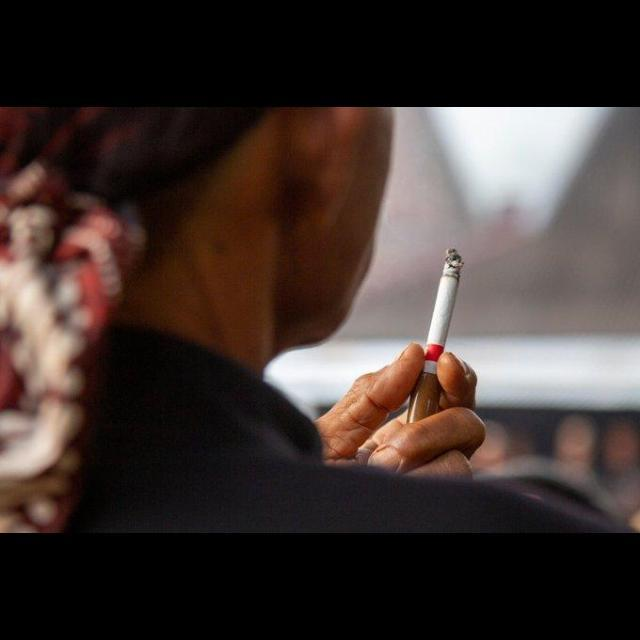rokok: (420, 248, 462, 376)
